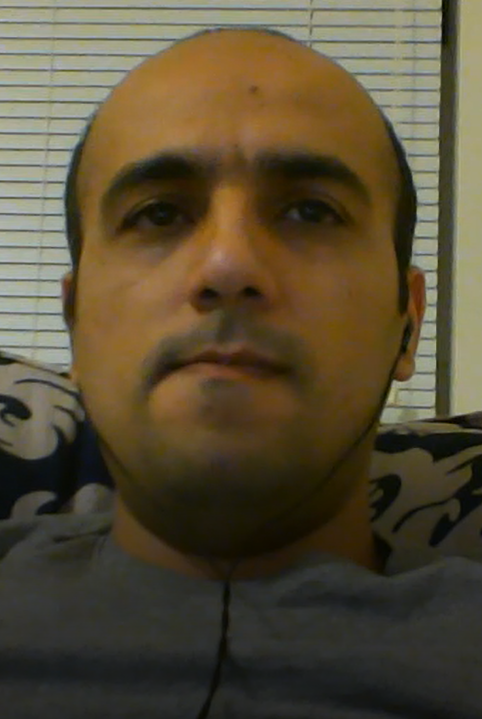Not Sleeping: (99, 143, 375, 261)
